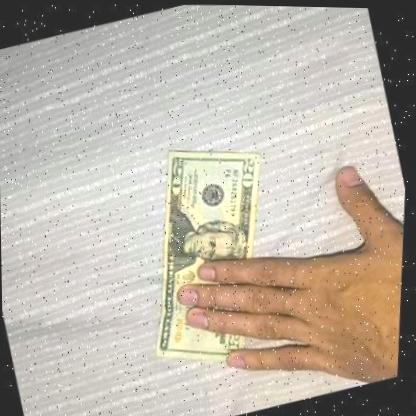twenty-front: (105, 122, 319, 382)
